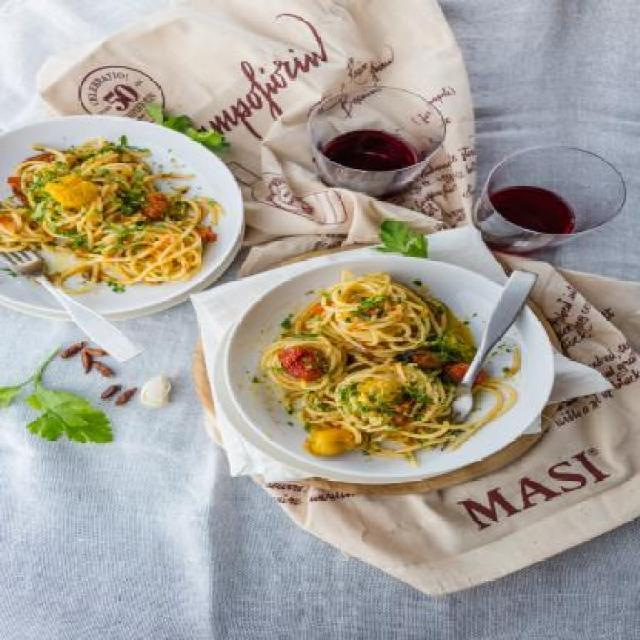Oil pasta: (256, 258, 544, 468)
